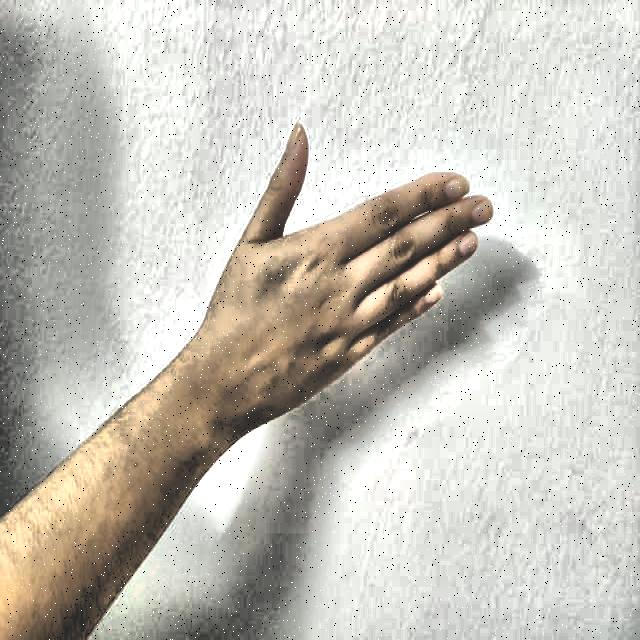Aa: (198, 86, 517, 462)
